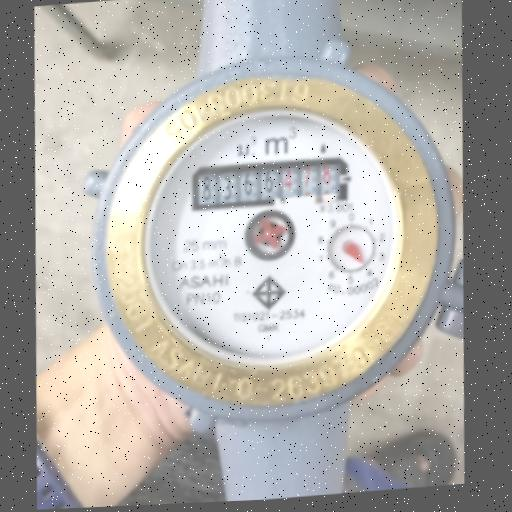3: (217, 173, 235, 203)
4: (280, 168, 297, 197)
6: (239, 170, 256, 200), (260, 168, 276, 199)
7: (299, 166, 315, 196)
8: (197, 173, 215, 205), (319, 165, 336, 195)
border_water_meter_number: (188, 154, 350, 213)
